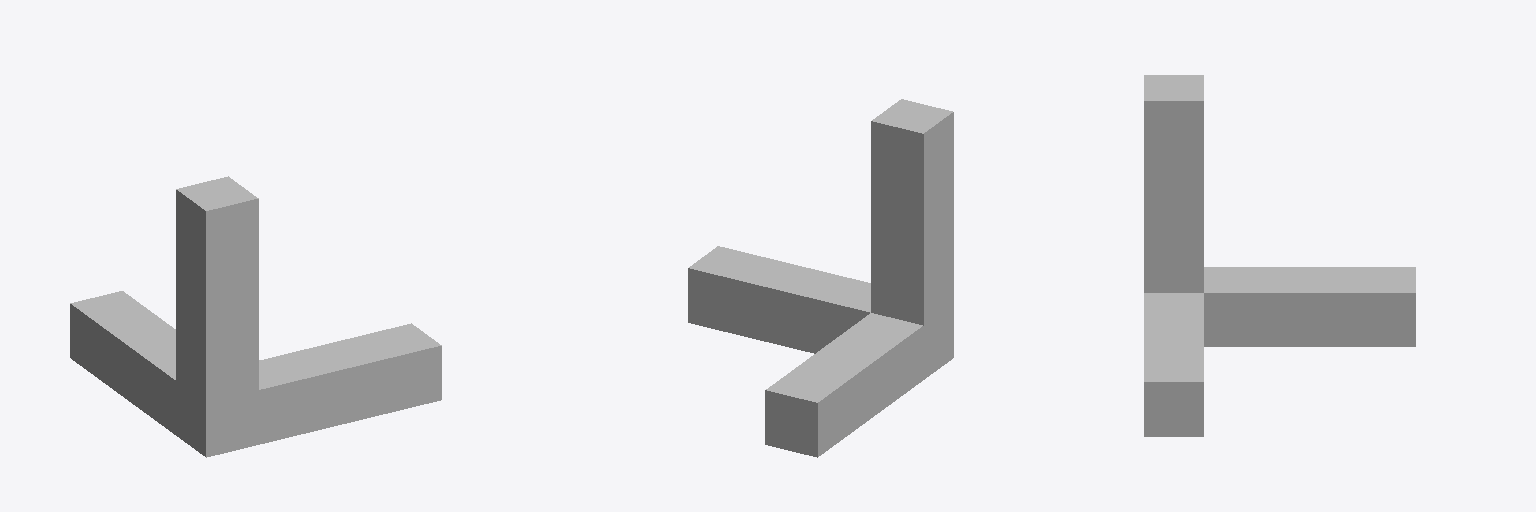
The model's file is tick.obj.
3 renders of one model, left to right at view 1: azimuth 30°, elevation 25°; view 2: azimuth 150°, elevation 25°; view 3: azimuth 270°, elevation 25°, orthographic.
Parts seen in each view (by area): view 1: Cube; view 2: Cube; view 3: Cube.
Boxes of the visible parts, <box> form: Cube: <box>70,176,441,457</box>; Cube: <box>688,99,953,457</box>; Cube: <box>1144,75,1415,436</box>.
Size of the model in its own units: 1.12 by 1.12 by 1.12.